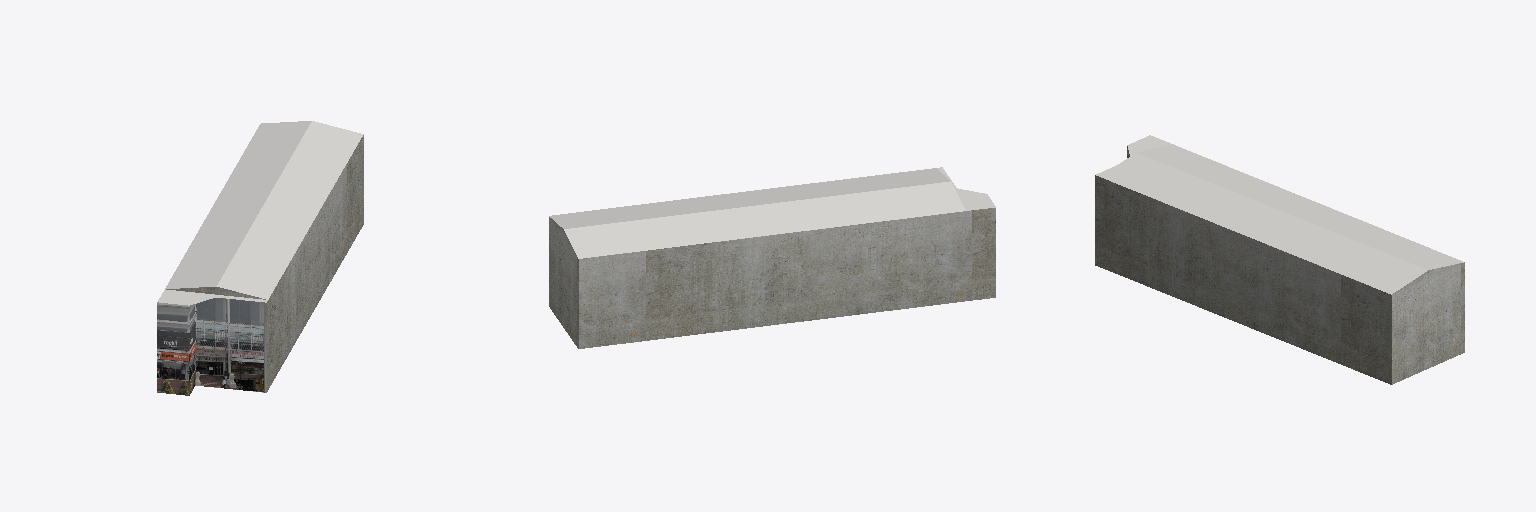
3 renders of one model, left to right at view 1: azimuth 30°, elevation 25°; view 2: azimuth 150°, elevation 25°; view 3: azimuth 270°, elevation 25°, orthographic.
Parts seen in each view (by area): view 1: Mesh1 Plaza1 Model; view 2: Mesh1 Plaza1 Model; view 3: Mesh1 Plaza1 Model.
Part boxes in pixels (x1,y1,x2,y2): Mesh1 Plaza1 Model: (157,121,363,395); Mesh1 Plaza1 Model: (549,167,995,348); Mesh1 Plaza1 Model: (1095,135,1464,384).
Bounding box in the file's own units: 57.2 × 16.44 × 56.04.
Materials: 12 (11 with a texture image).